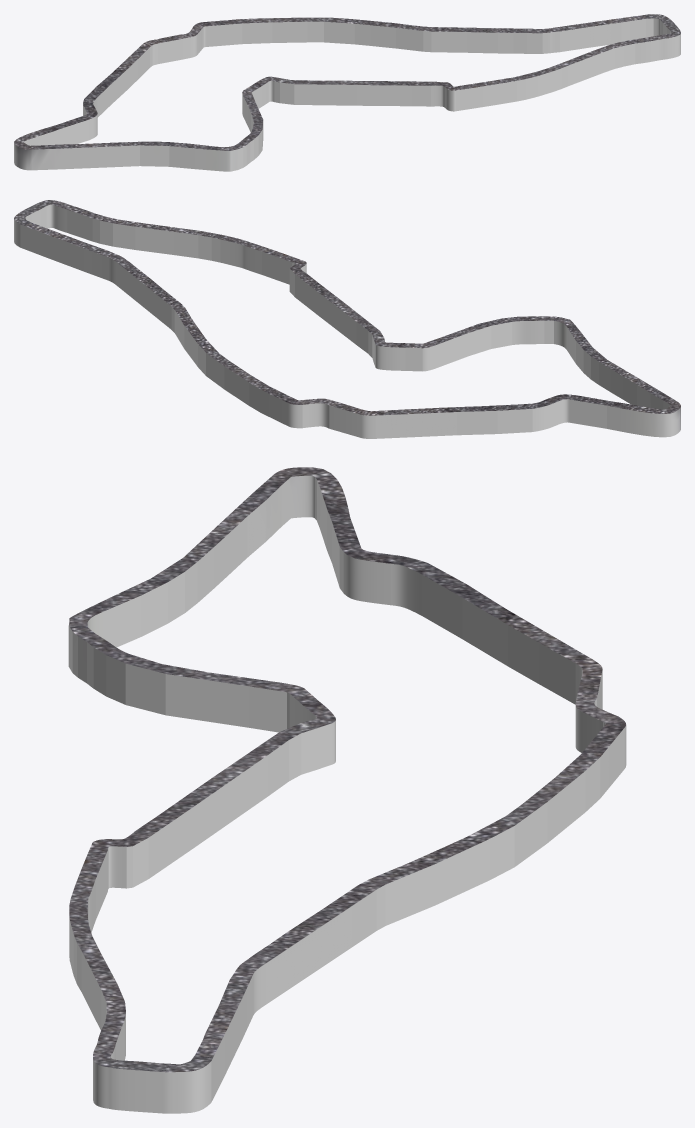
Rendered from Imola_circuit.fbx.
The picture shows the model from 3 angles, top to bottom: view 1: azimuth 30°, elevation 25°; view 2: azimuth 150°, elevation 25°; view 3: azimuth 270°, elevation 25°; orthographic projection. The views are drawn at different scales.
Visible parts, largest first — view 1: Line008; view 2: Line008; view 3: Line008.
Boxes of the visible parts, box(x1,y1,x2,y2) form: Line008: box(14, 14, 680, 171); Line008: box(14, 200, 680, 438); Line008: box(68, 467, 626, 1113).
Bounding box in the file's own units: 12.32 × 0.3937 × 4.79.
1 material, 1 textured.
